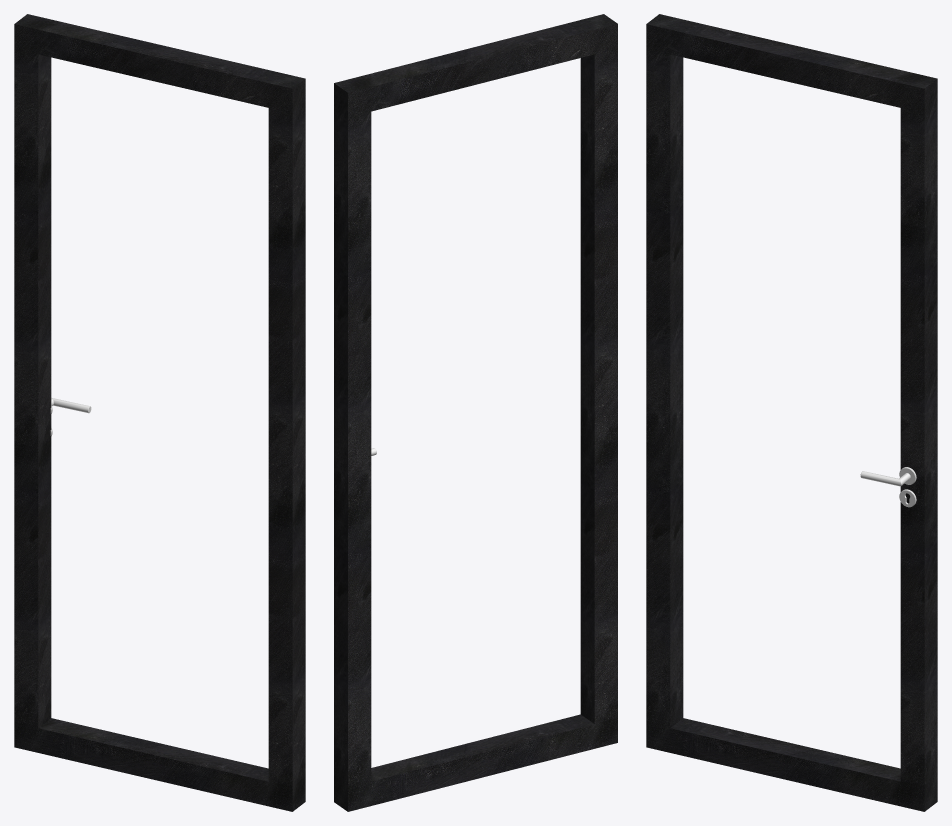
The model's file is door.obj.
3 views of the same model, side by side, from view 1: azimuth 90°, elevation 25°; view 2: azimuth 150°, elevation 25°; view 3: azimuth 270°, elevation 25° (orthographic).
Parts seen in each view (by area): view 1: Mesh5 Puerta_original cristales Model; view 2: Mesh5 Puerta_original cristales Model; view 3: Mesh5 Puerta_original cristales Model.
Boxes of the visible parts, x1=… form: Mesh5 Puerta_original cristales Model: x1=14, y1=14, x2=305, y2=811; Mesh5 Puerta_original cristales Model: x1=334, y1=14, x2=617, y2=811; Mesh5 Puerta_original cristales Model: x1=646, y1=14, x2=937, y2=811.
Bounding box in the file's own units: 0.5542 × 2.34 × 0.8536.
3 materials, 2 textured.
